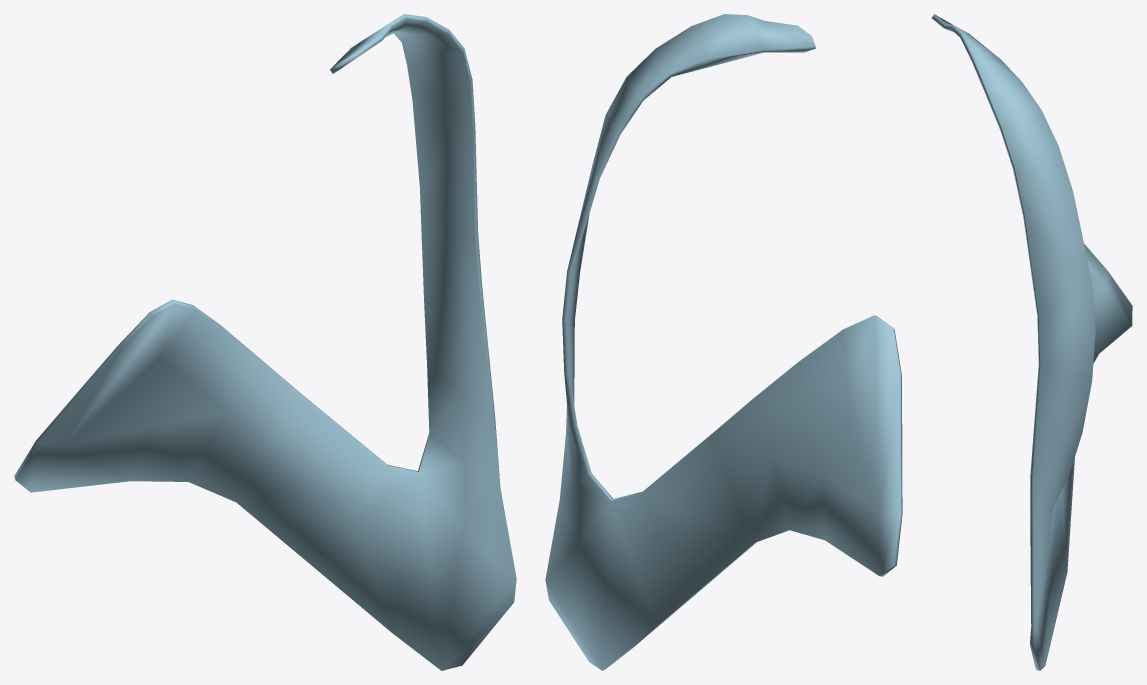
File: articulacoes-arcuate-popliteal-ligament-l.glb
The picture shows the model from 3 angles, left to right: view 1: azimuth 30°, elevation 25°; view 2: azimuth 150°, elevation 25°; view 3: azimuth 270°, elevation 25°; orthographic projection. The views are drawn at different scales.
Parts seen in each view (by area): view 1: Arcuate popliteal ligament.l; view 2: Arcuate popliteal ligament.l; view 3: Arcuate popliteal ligament.l.
Part boxes in pixels (x1,y1,x2,y2): Arcuate popliteal ligament.l: [14, 14, 516, 670]; Arcuate popliteal ligament.l: [545, 14, 902, 670]; Arcuate popliteal ligament.l: [931, 14, 1132, 670].
Size of the model in its own units: 0.0465 by 0.0712 by 0.0217.
